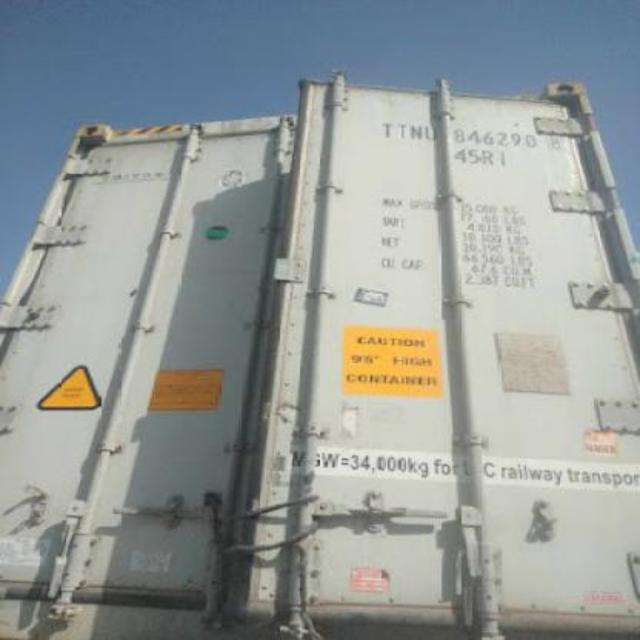0: (522, 128, 538, 148)
2: (498, 122, 510, 148)
4: (468, 122, 482, 146)
6: (480, 122, 496, 148)
8: (546, 127, 568, 151), (454, 121, 466, 142)
9: (512, 126, 522, 152)
N: (408, 122, 424, 144)
T: (378, 117, 394, 143), (394, 117, 410, 141)
U: (424, 118, 442, 148)
